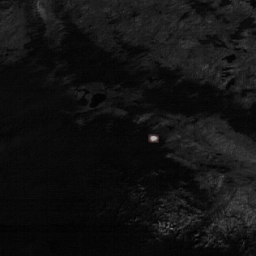Target: (148, 135, 159, 143)
